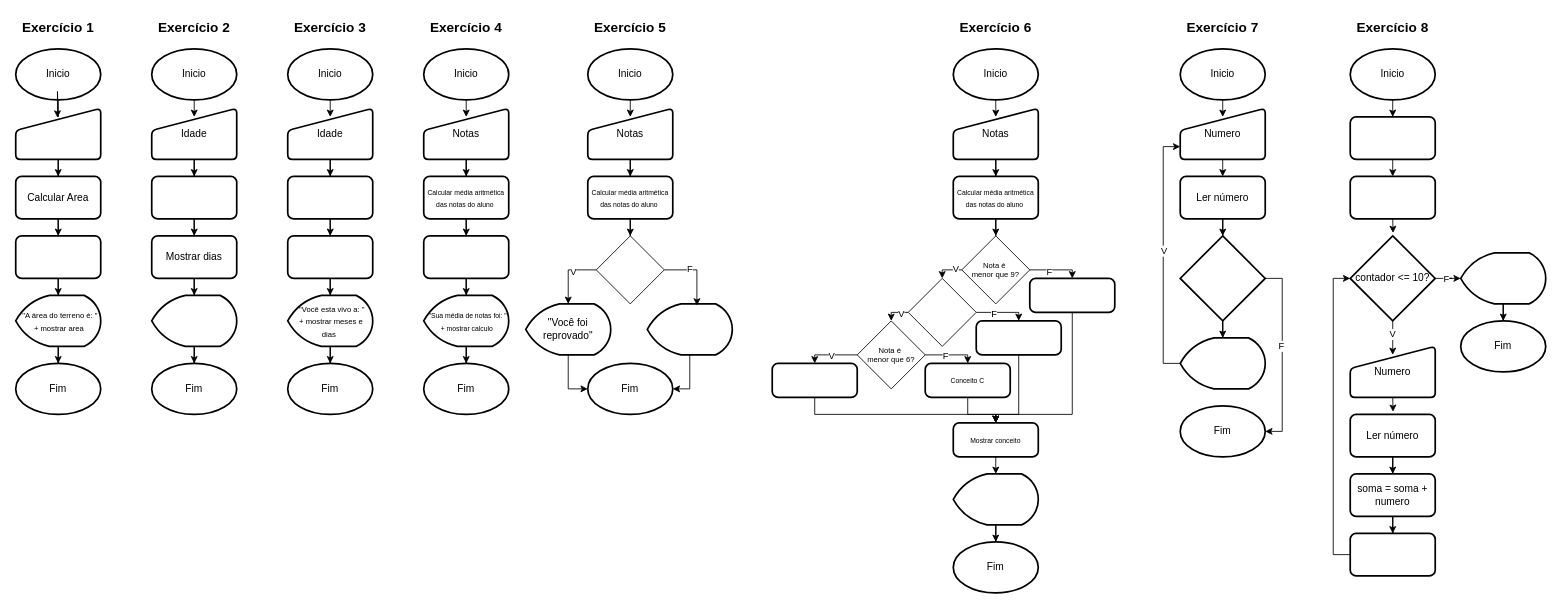
Some shapes in this 1561 by 608 pixel diagram are drawn without their labels. Each missing label, with the box of its shape:
"O status final da sua nota é: " Mostrar conceito: (952, 473, 1039, 525)
"Soma total: " + soma: (1459, 252, 1546, 304)
"Valor válido": (1179, 337, 1266, 389)
"Você esta vivo a: " + mostrar dias + "dias": (150, 294, 237, 347)
"Você foi aprovado": (646, 303, 733, 355)
Calcular idade em dias, considerando anos não bissextos: (150, 175, 237, 219)
Calcular idade em meses e dias, considerando anos não bissextos: (286, 175, 373, 219)
Conceito A: (1028, 277, 1115, 313)
Conceito B: (975, 320, 1062, 355)
Conceito Reprovado: (771, 362, 858, 398)
contador = 0: (1349, 175, 1436, 219)
contador = contador + 1: (1349, 532, 1436, 576)
Dimensões do terreno: (14, 107, 101, 160)
Mostrar Area: (14, 235, 101, 279)
Mostrar meses e dias: (286, 235, 373, 279)
Mostrar média: (422, 235, 509, 279)
Nota é menor que 5?: (595, 235, 664, 304)
Nota é menor que 7,5?: (907, 278, 976, 346)
numero != 0: (1179, 235, 1266, 321)
soma = 0: (1349, 116, 1436, 160)
